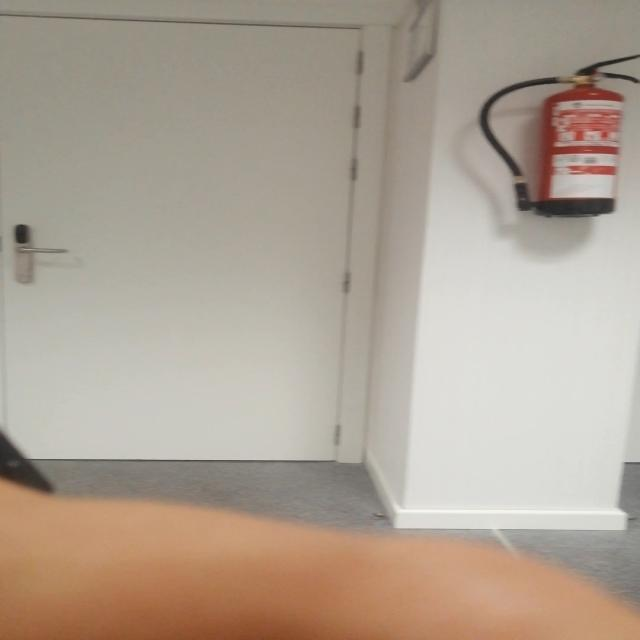door_handle: (13, 246, 72, 257)
